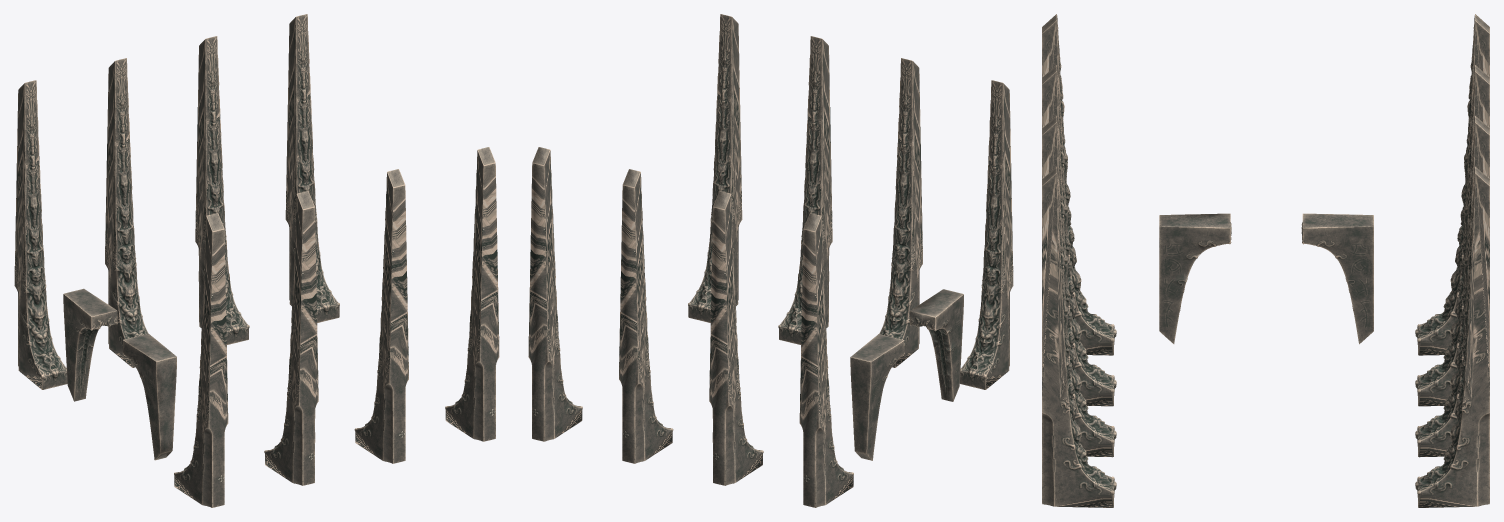
The model's file is Gate_start.glb.
3 views of the same model, side by side, from view 1: azimuth 30°, elevation 25°; view 2: azimuth 150°, elevation 25°; view 3: azimuth 270°, elevation 25° (orthographic). The views are drawn at different scales.
Parts seen in each view (by area): view 1: Gate_Start; view 2: Gate_Start; view 3: Gate_Start.
Boxes of the visible parts, x1=… form: Gate_Start: x1=14, y1=14, x2=499, y2=507; Gate_Start: x1=528, y1=14, x2=1013, y2=507; Gate_Start: x1=1042, y1=14, x2=1489, y2=507.
Bounding box in the file's own units: 0.8311 × 0.7635 × 0.9358.
2 materials, 2 textured.
